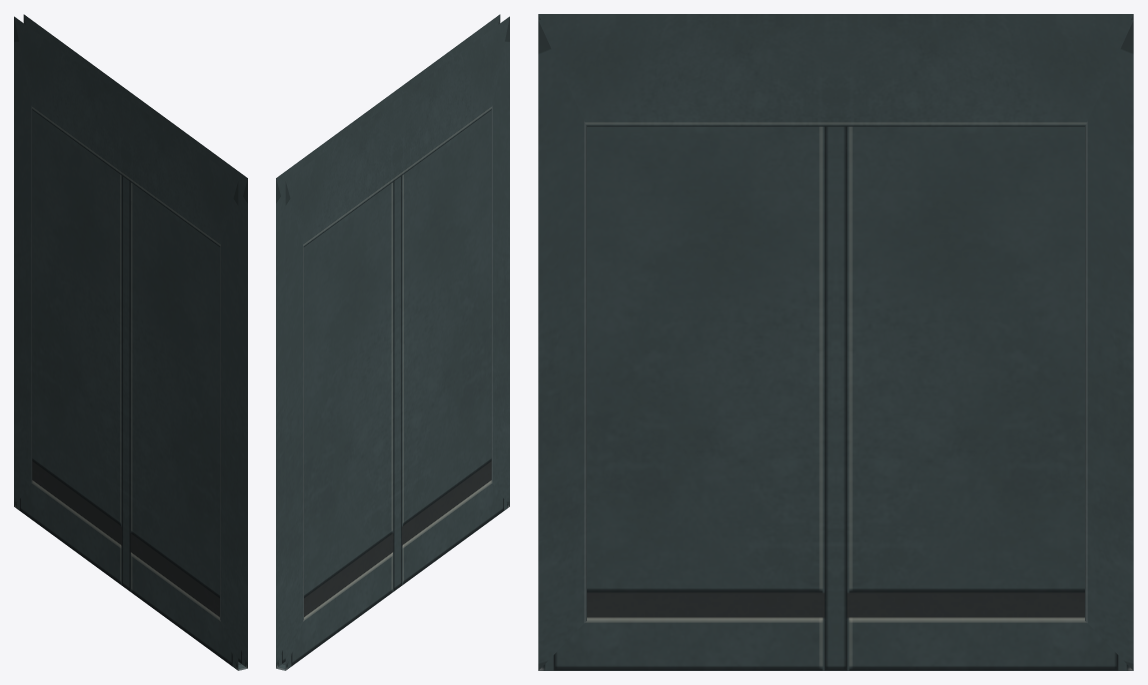
Rendered from cor1_prop_library_door.fbx.
3 renders of one model, left to right at view 1: azimuth 30°, elevation 25°; view 2: azimuth 150°, elevation 25°; view 3: azimuth 270°, elevation 25°, orthographic. The views are drawn at different scales.
Parts seen in each view (by area): view 1: Cor1_prop_door1; view 2: Cor1_prop_door1; view 3: Cor1_prop_door1.
Part boxes in pixels (<box>): Cor1_prop_door1: <box>14,14,247,670</box>; Cor1_prop_door1: <box>276,14,509,670</box>; Cor1_prop_door1: <box>538,14,1133,670</box>.
Size of what is drawn, in the model's own units: 0.1229 by 6.09 by 5.05.
